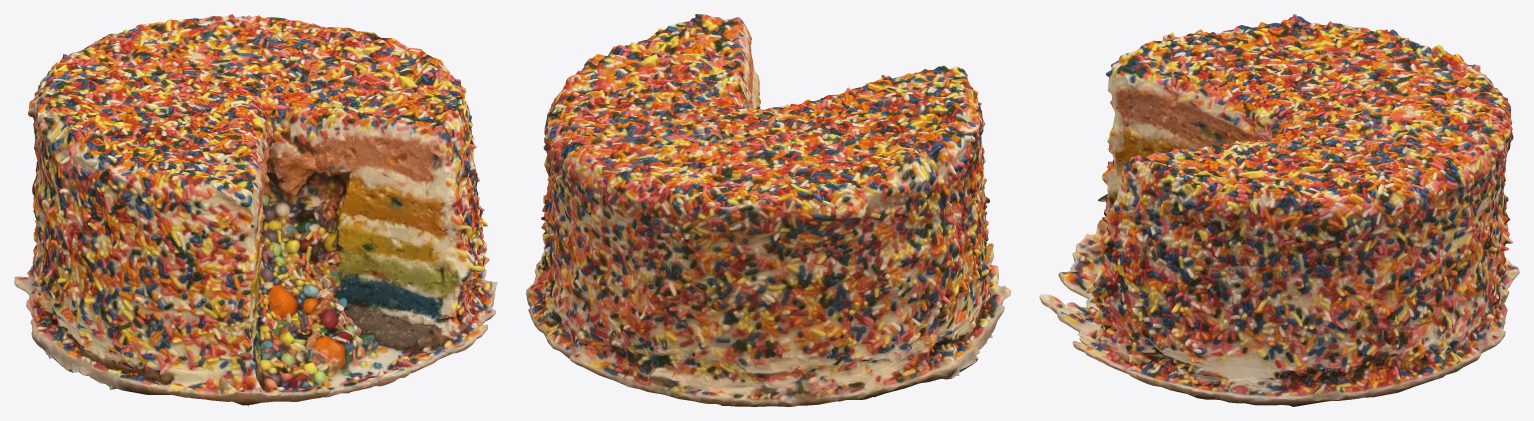
File: birthday-cake.6721f86c.glb
3 renders of one model, left to right at view 1: azimuth 30°, elevation 25°; view 2: azimuth 150°, elevation 25°; view 3: azimuth 270°, elevation 25°, orthographic. The views are drawn at different scales.
Parts seen in each view (by area): view 1: Object_2; view 2: Object_2; view 3: Object_2.
Part boxes in pixels (left/top/right/bottom): Object_2: left=14, top=14, right=497, bottom=406; Object_2: left=526, top=14, right=1010, bottom=406; Object_2: left=1039, top=14, right=1519, bottom=406.
Size of the model in its own units: 3.7 by 1.96 by 3.8.
Materials: 1 (1 with a texture image).
